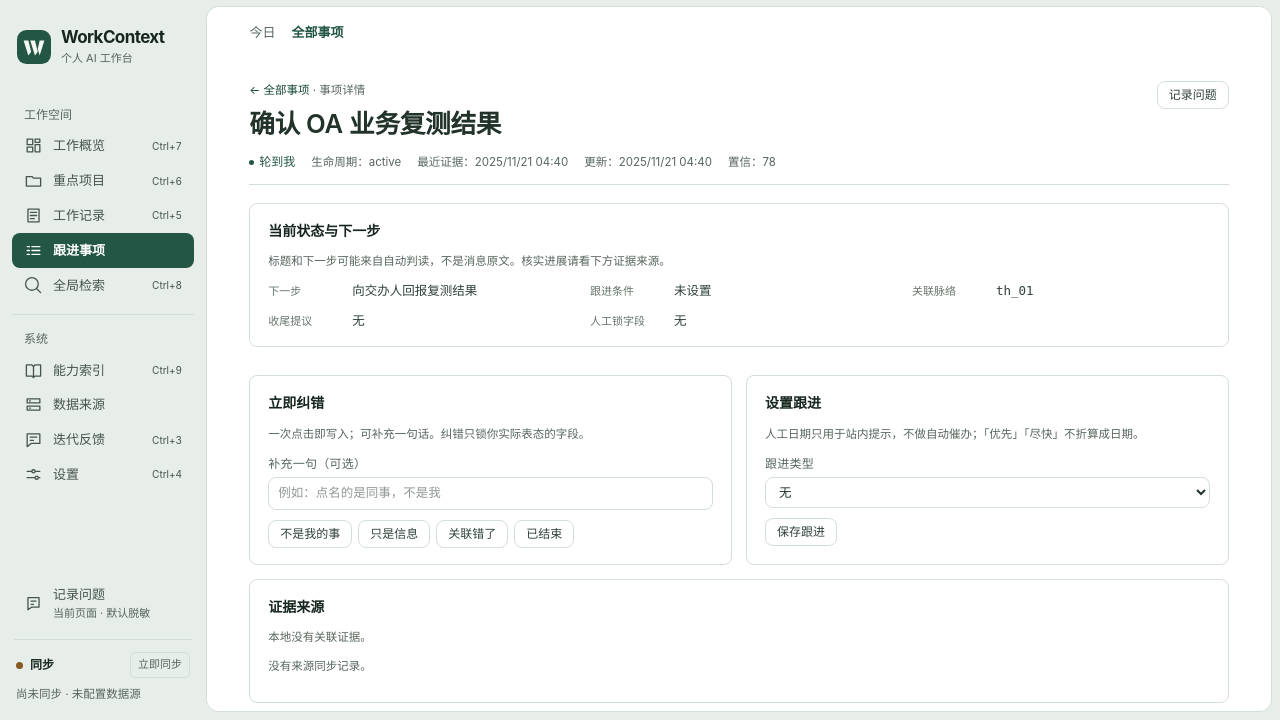
事项详情 / 纠错 / 收尾 / 跟进 › 收尾只提供白名单证据，并把选择传给 item_close
Click the button "已结束": (544, 534) [514,520,574,548]
(page scrolled)
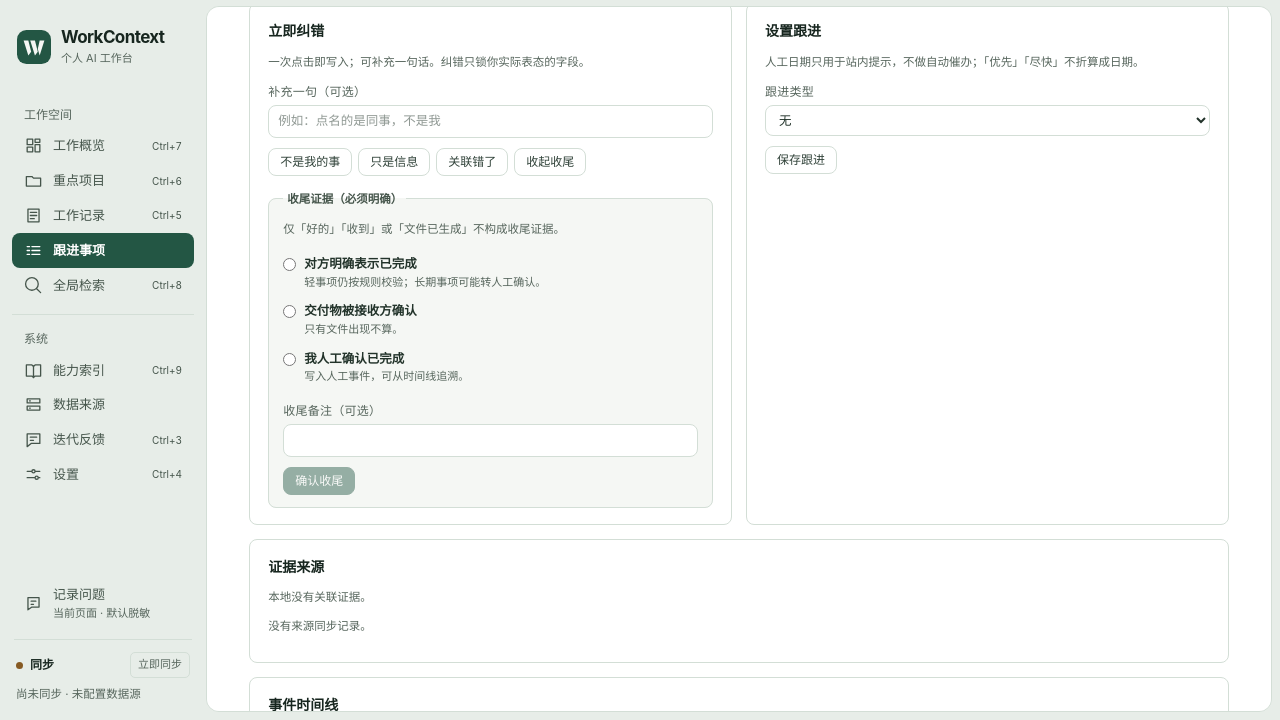
Now the radio button labelled "对方明确表示已完成" is shown, box [283,258,296,271]
Now the radio button labelled "交付物被接收方确认" is shown, box [283,305,296,318]
Now the radio button labelled "我人工确认已完成" is shown
Click the radio button labelled "我人工确认已完成": (290, 359) [283,352,296,366]
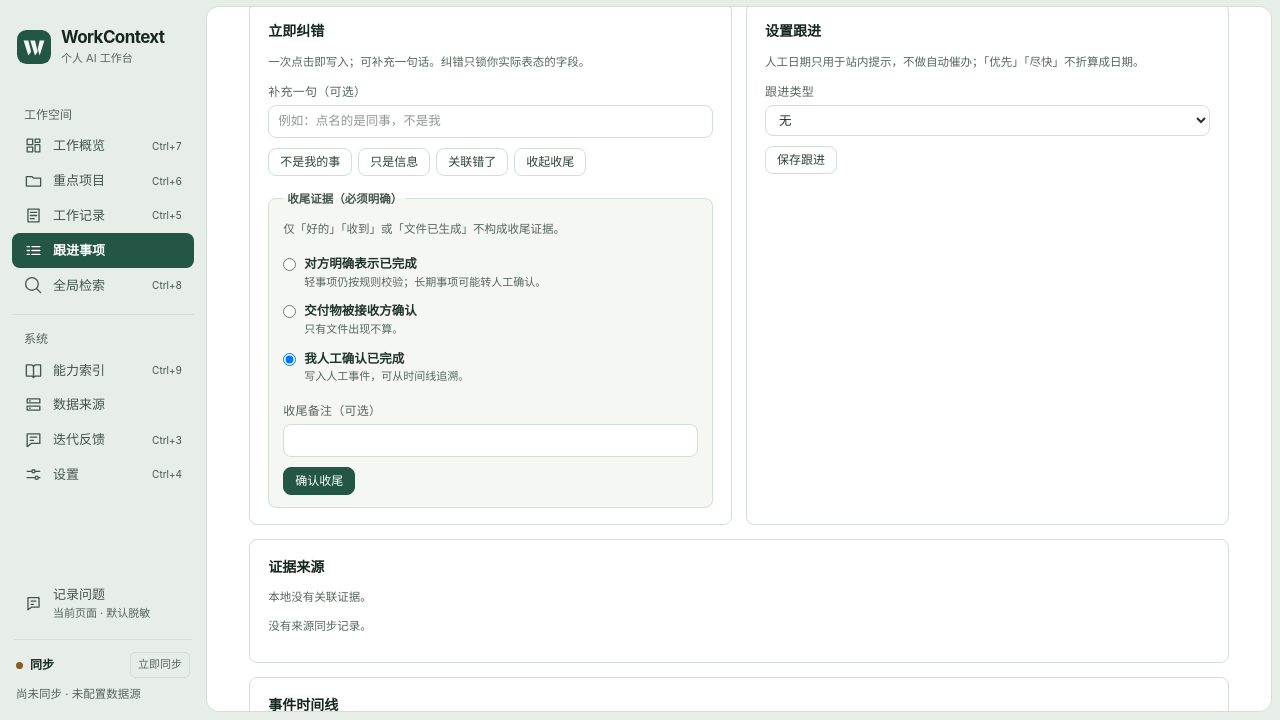
Click the button "确认收尾": (319, 481) [283,467,355,495]
(page scrolled)
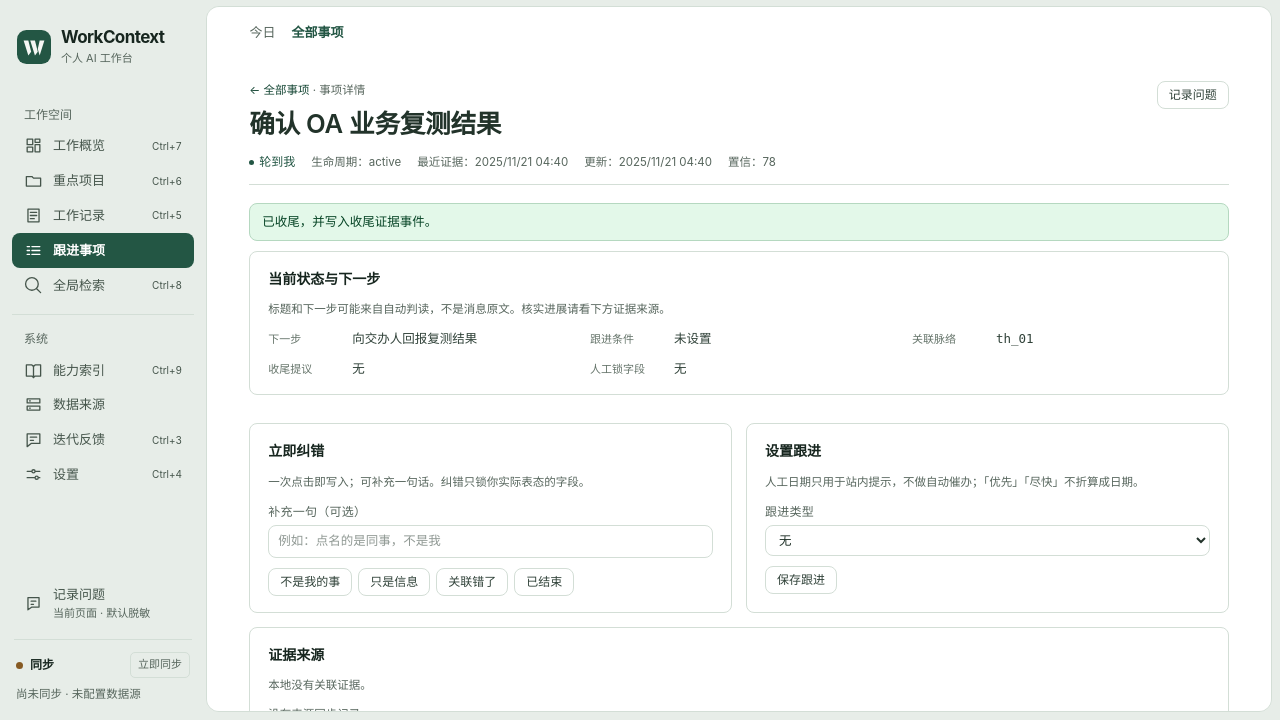
Now the text "已收尾，并写入收尾证据事件。" is shown, box [249,203,1229,241]
